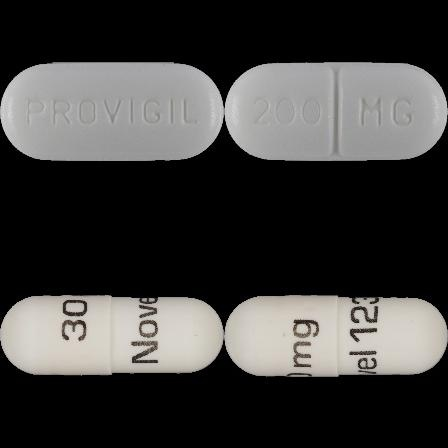63629-1611: (0, 0, 224, 224)
